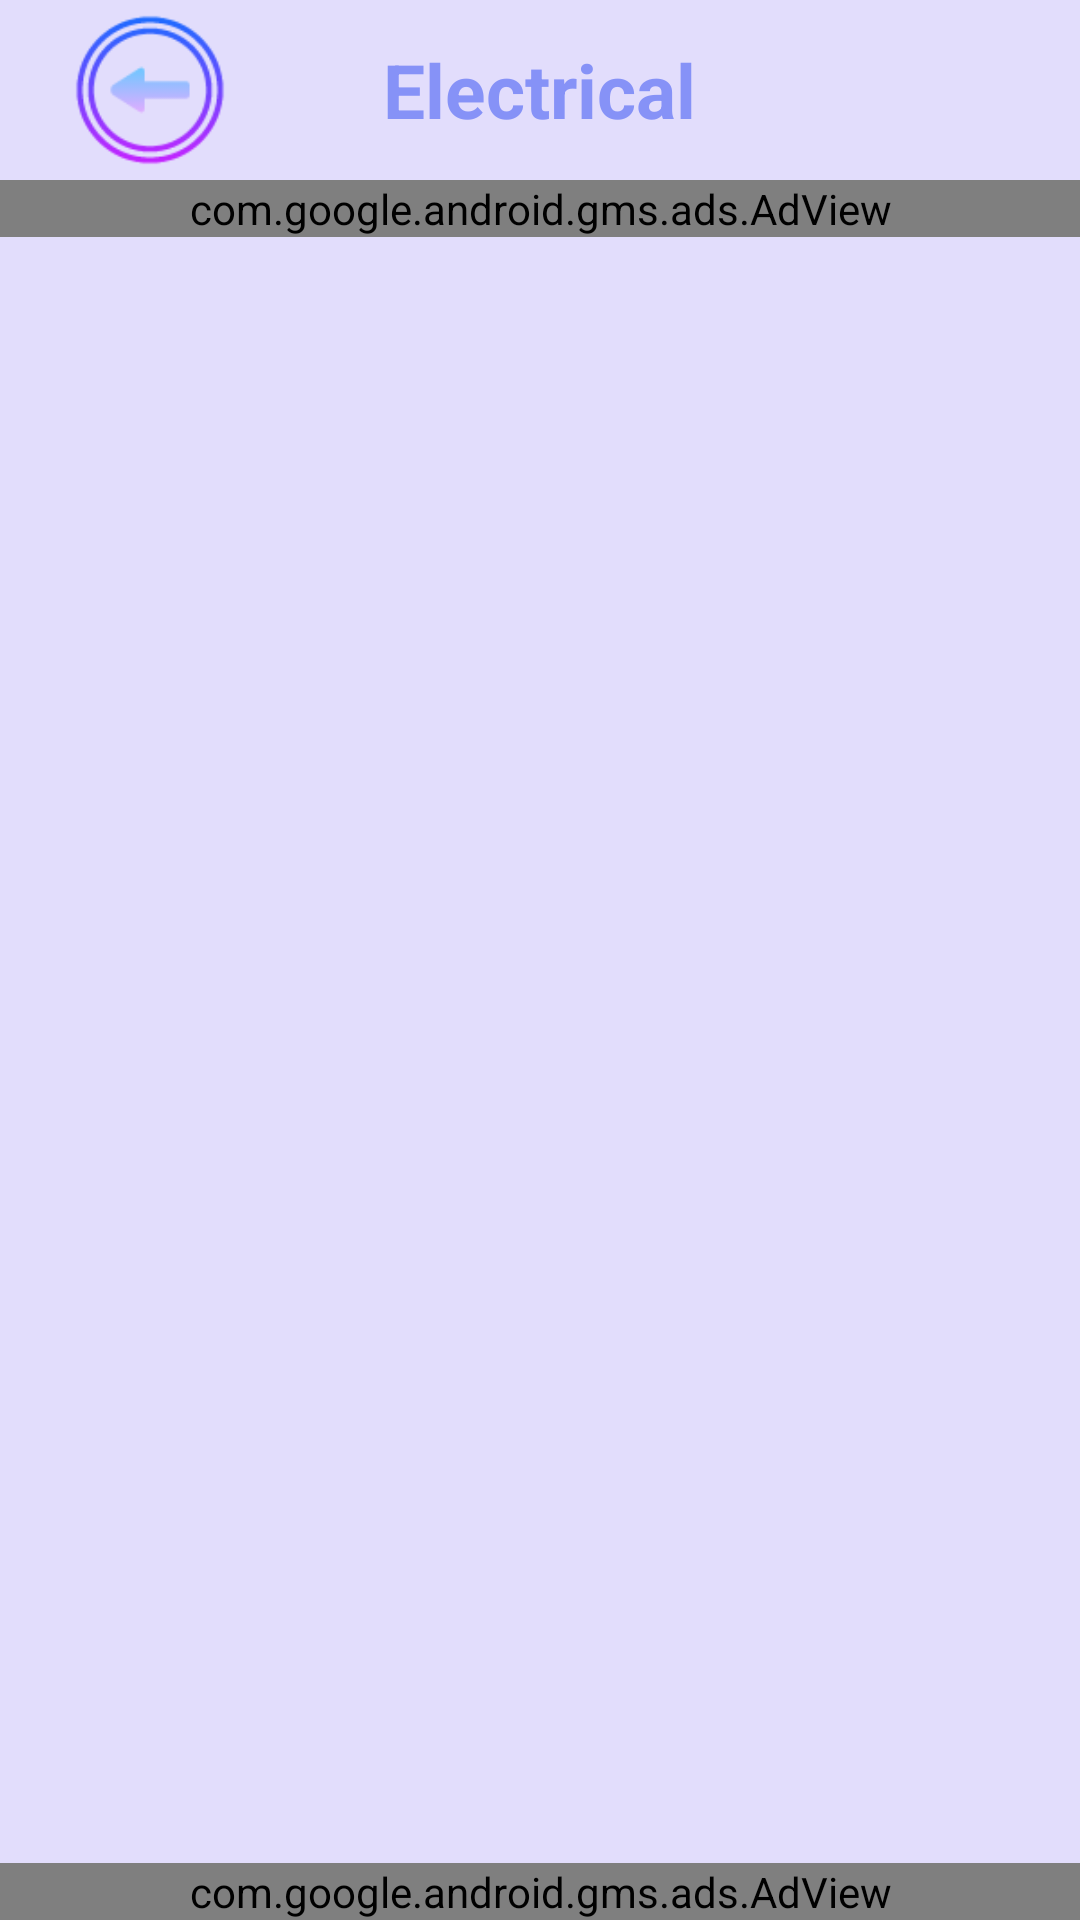

Where icons sit on this 1080 x 1920 app screen, as (x1, y1, x2, y2):
back: (76, 16, 224, 164)
